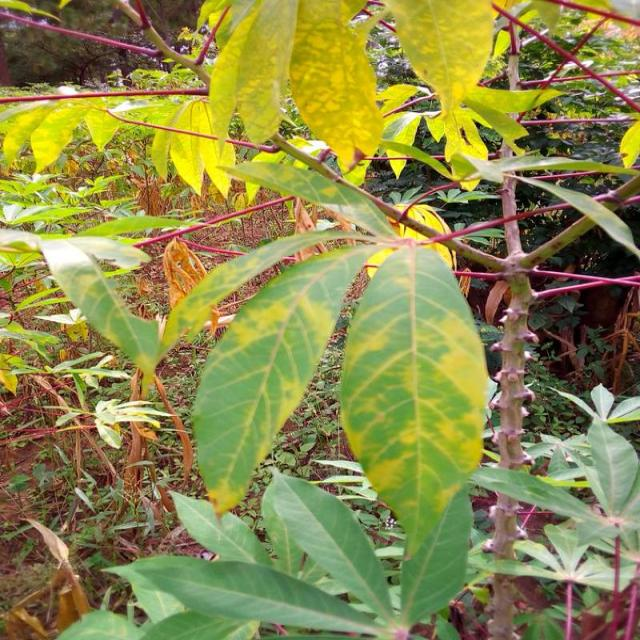cassava leaf: (340, 241, 490, 627), (191, 241, 378, 516)
